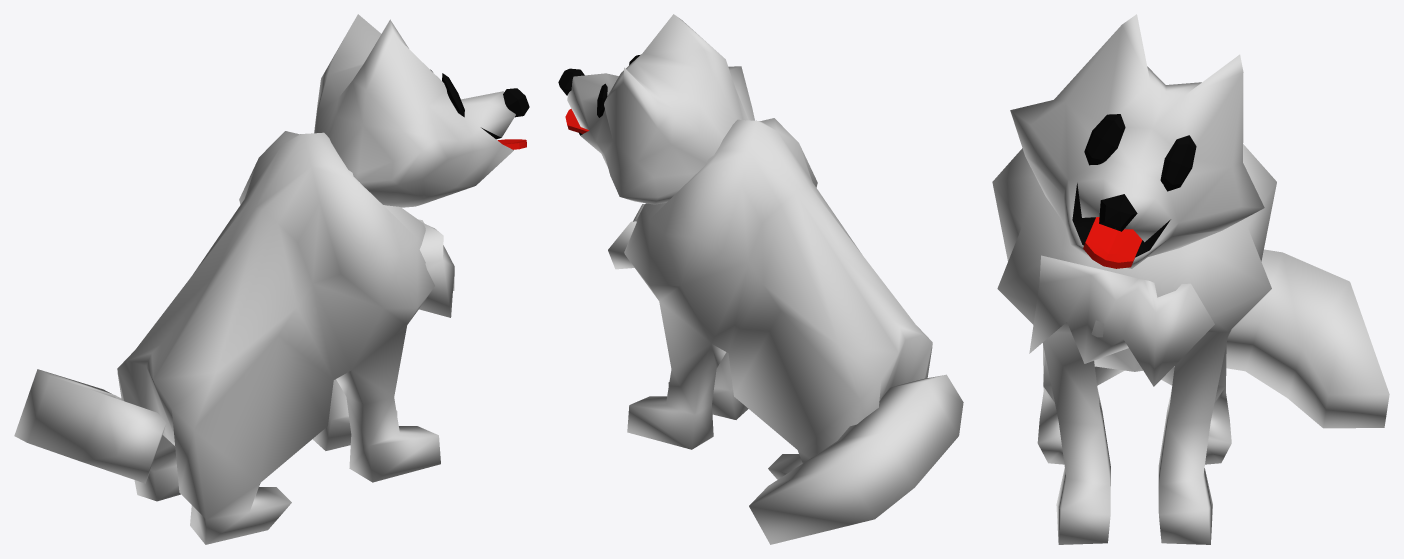
Rendered from samoyed.glb.
3 renders of one model, left to right at view 1: azimuth 30°, elevation 25°; view 2: azimuth 150°, elevation 25°; view 3: azimuth 270°, elevation 25°, orthographic. The views are drawn at different scales.
Visible parts, largest first — view 1: body, head, Cube.005, Cube.006; view 2: body, head, Cube.005, Cube.006; view 3: body, head, Cube.005, Cube.006, Cube.001, Cube.002, Cube.003, Sphere.
Boxes of the visible parts, x1,y1,x2,y2 form: body: [117, 131, 440, 544]; head: [314, 14, 515, 207]; Cube.005: [14, 369, 165, 483]; Cube.006: [418, 219, 454, 317]; body: [624, 118, 932, 479]; head: [567, 14, 754, 204]; Cube.005: [749, 374, 963, 544]; Cube.006: [608, 204, 644, 269]; body: [992, 144, 1276, 544]; head: [1010, 14, 1264, 268]; Cube.005: [1226, 249, 1389, 428]; Cube.006: [1029, 255, 1214, 386]; Cube.001: [1083, 217, 1142, 268]; Cube.002: [1084, 114, 1125, 165]; Cube.003: [1160, 135, 1196, 191]; Sphere: [1099, 194, 1137, 231].
Bounding box in the file's own units: 5.46 × 5.34 × 3.53.
